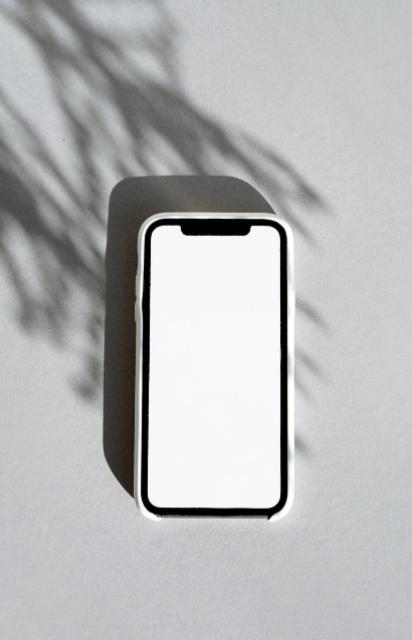mobile: (137, 211, 295, 519)
